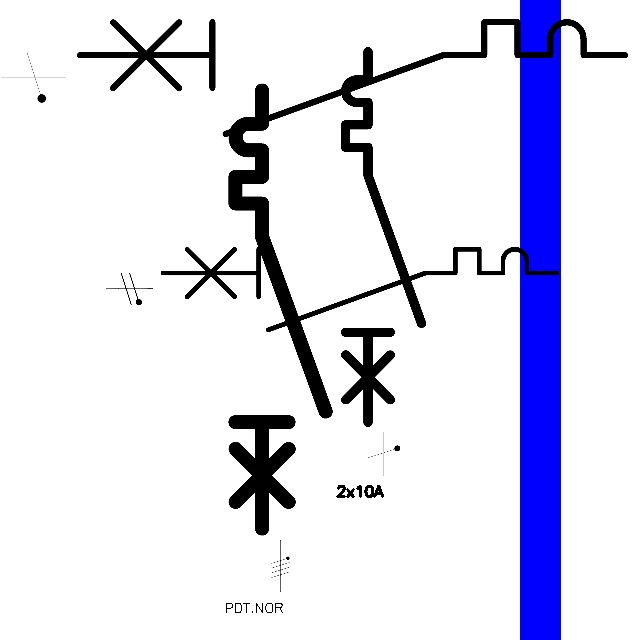interruptor_termomagnetico: (65, 8, 638, 148), (224, 79, 336, 540), (152, 239, 566, 340), (336, 42, 431, 432)
